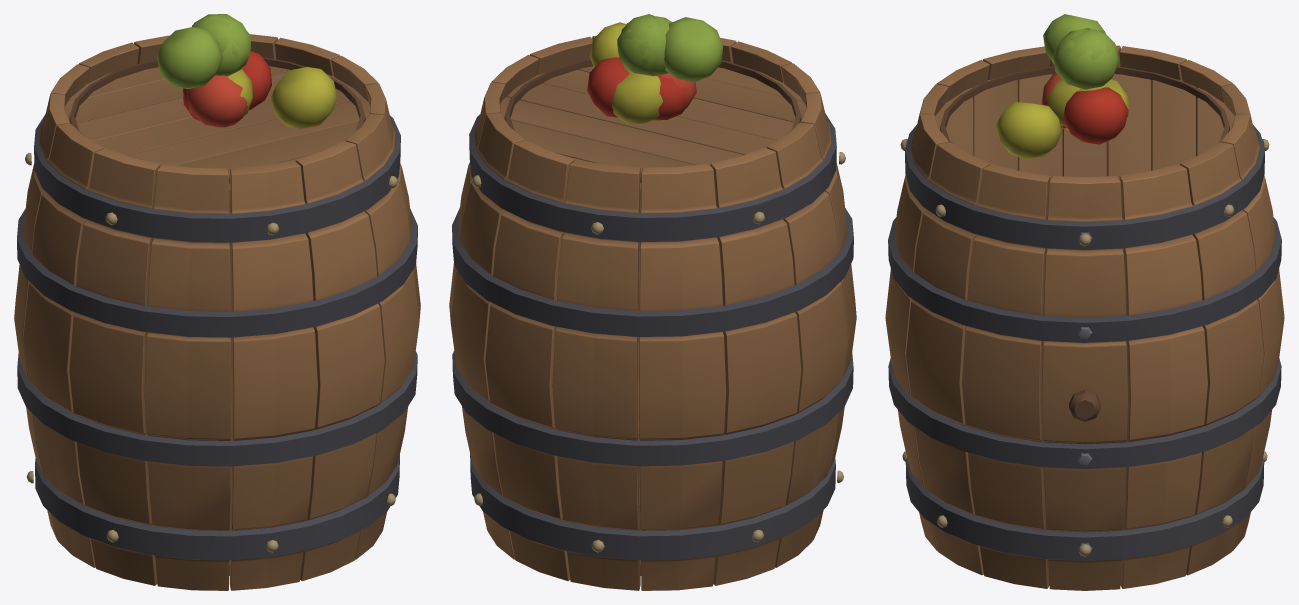
The model's file is pr_barrel.glb.
3 views of the same model, side by side, from view 1: azimuth 30°, elevation 25°; view 2: azimuth 150°, elevation 25°; view 3: azimuth 270°, elevation 25° (orthographic). The views are drawn at different scales.
Visible parts, largest first — view 1: PR_barrel__body, PR_barrel__apples; view 2: PR_barrel__body, PR_barrel__apples; view 3: PR_barrel__body, PR_barrel__apples.
Boxes of the visible parts, bbox=[...] form: PR_barrel__body: bbox=[14, 34, 420, 590]; PR_barrel__apples: bbox=[156, 14, 337, 128]; PR_barrel__body: bbox=[449, 35, 856, 590]; PR_barrel__apples: bbox=[587, 14, 722, 123]; PR_barrel__body: bbox=[885, 45, 1284, 590]; PR_barrel__apples: bbox=[996, 14, 1128, 159].
Size of the model in its own units: 0.777 by 1.01 by 0.7436.
